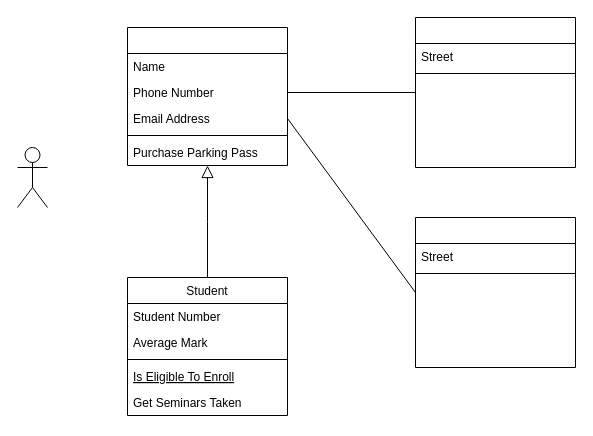
Image size: 593x436. Some labels were removed from this diagram. Each missing label, with the box of its shape:
Ector: (16, 146, 48, 208)
Person: (126, 26, 288, 166)
